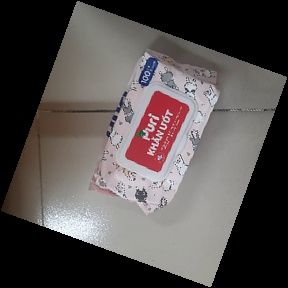Puri hong: (89, 47, 220, 219)
